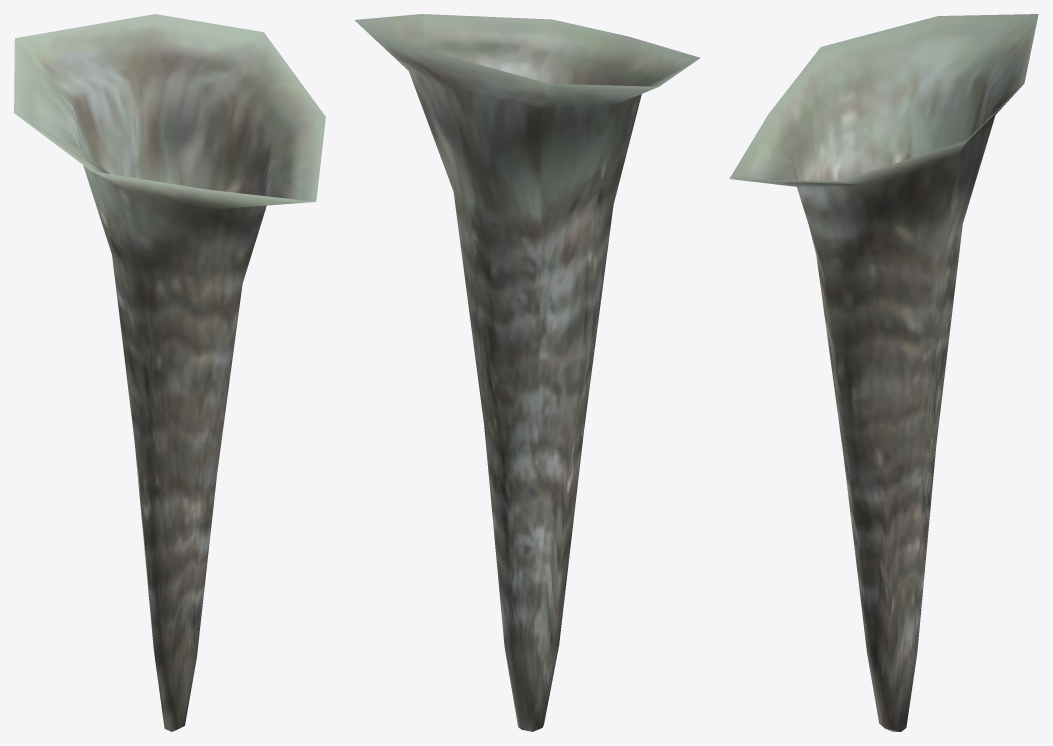
Rendered from TROLLHOLE02_PS-UPPERSTALAG29.fbx.
3 renders of one model, left to right at view 1: azimuth 30°, elevation 25°; view 2: azimuth 150°, elevation 25°; view 3: azimuth 270°, elevation 25°, orthographic. The views are drawn at different scales.
Parts seen in each view (by area): view 1: TROLLHOLE02_PS-UPPERSTALAG29; view 2: TROLLHOLE02_PS-UPPERSTALAG29; view 3: TROLLHOLE02_PS-UPPERSTALAG29.
Boxes of the visible parts, box(x1,y1,x2,y2) form: TROLLHOLE02_PS-UPPERSTALAG29: box(14, 14, 325, 731); TROLLHOLE02_PS-UPPERSTALAG29: box(354, 14, 700, 731); TROLLHOLE02_PS-UPPERSTALAG29: box(729, 14, 1038, 731).
Bounding box in the file's own units: 9920 × 23749 × 9878.
1 material, 1 textured.
